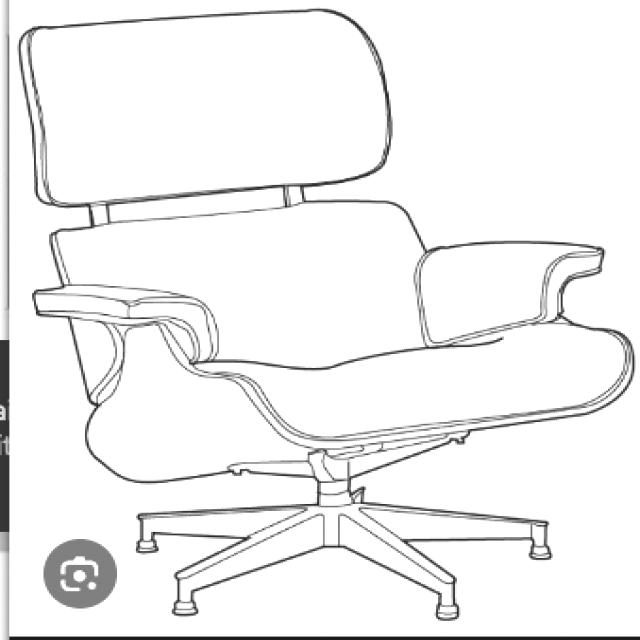Backrest: (40, 199, 438, 374)
Eames_base: (120, 491, 571, 630)
Eames_lounge: (407, 233, 613, 357), (25, 277, 230, 368)
Headrest: (6, 3, 396, 212)
Seat: (71, 303, 638, 493)
